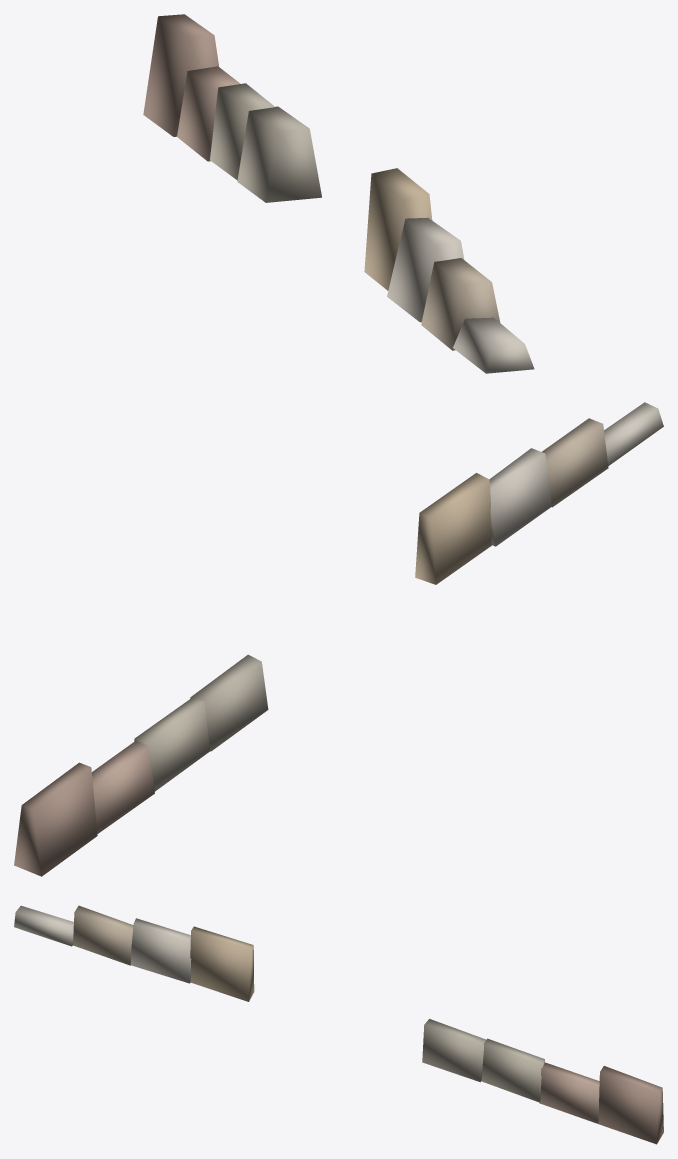
The model's file is farm_-48_-50_far.glb.
3 renders of one model, top to bottom at view 1: azimuth 30°, elevation 25°; view 2: azimuth 150°, elevation 25°; view 3: azimuth 270°, elevation 25°, orthographic. The views are drawn at different scales.
Parts seen in each view (by area): view 1: geometry_0; view 2: geometry_0; view 3: geometry_0.
Boxes of the visible parts, box(x1,y1,x2,y2) form: geometry_0: box(143, 14, 534, 373); geometry_0: box(14, 402, 663, 876); geometry_0: box(14, 905, 663, 1144).
Bounding box in the file's own units: 5.05 × 4.47 × 16.26.
